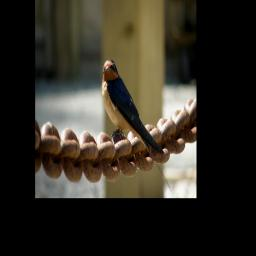Swallow: (101, 59, 173, 193)
